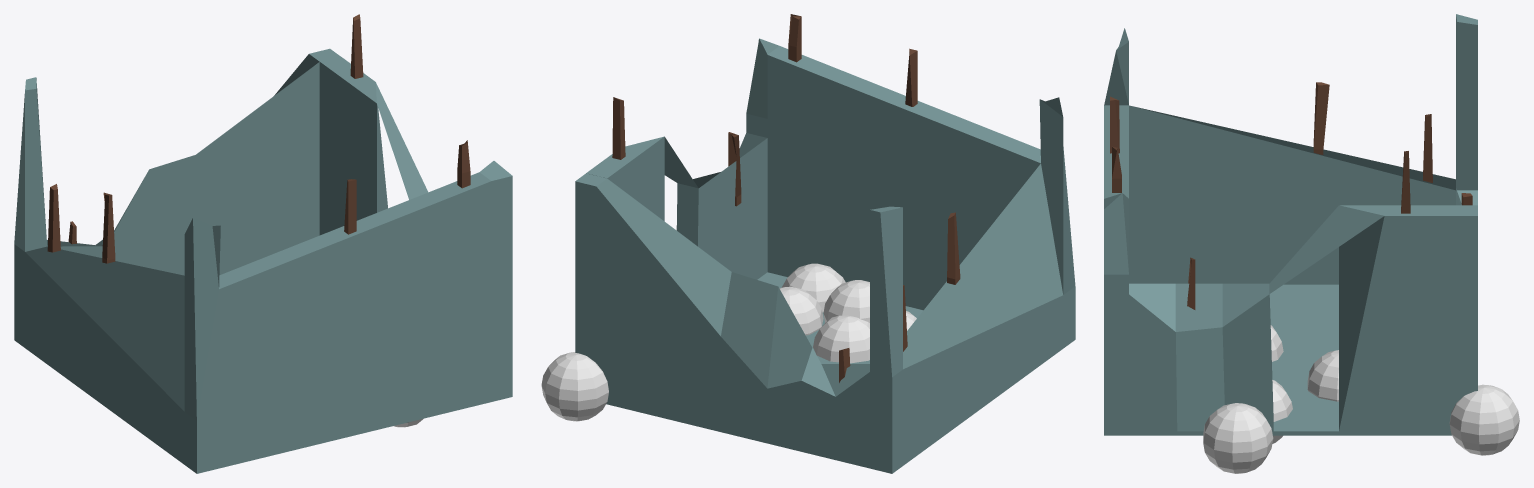
Rendered from destroyedBuilding@.fbx.
The picture shows the model from 3 angles, left to right: view 1: azimuth 30°, elevation 25°; view 2: azimuth 150°, elevation 25°; view 3: azimuth 270°, elevation 25°; orthographic projection. The views are drawn at different scales.
Parts seen in each view (by area): view 1: Cube; view 2: Cube; view 3: Cube.
Boxes of the visible parts, x1,y1,x2,y2 form: Cube: (14, 14, 512, 473); Cube: (541, 14, 1075, 473); Cube: (1104, 14, 1519, 473).
Size of the model in its own units: 3247 by 2616 by 3143.
